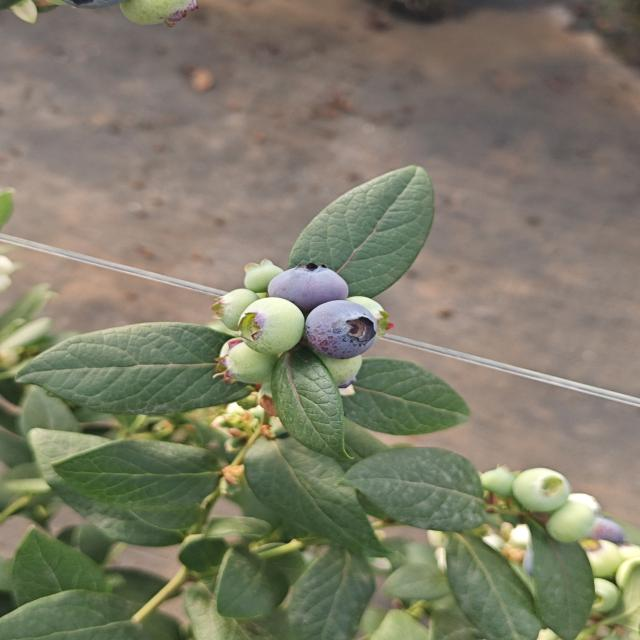ripe: (263, 261, 364, 313), (302, 301, 382, 361)
